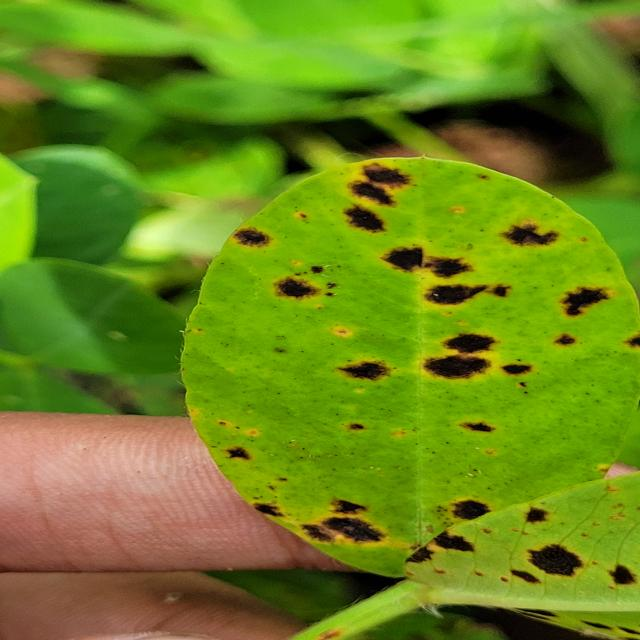Ground nut_tikka leaf spot: (187, 154, 640, 571), (407, 494, 640, 640)
